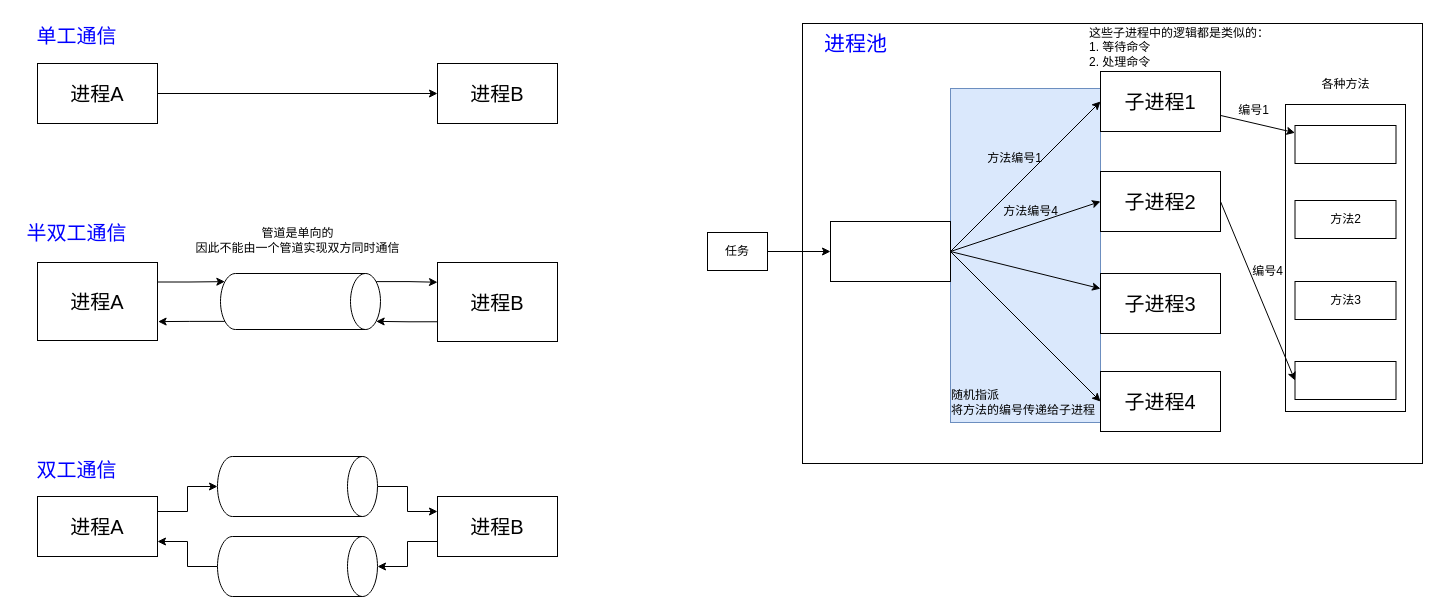
This 1440x614 diagram has some shape labels left out. The box of each missing label's shape, as (x1, y1, x2, y2) in pixels:
方法1: (1294, 124, 1396, 164)
方法4: (1294, 360, 1396, 400)
父进程: (830, 220, 950, 282)
管道: (220, 272, 380, 330)
管道1: (216, 456, 378, 516)
管道2: (216, 536, 378, 596)
